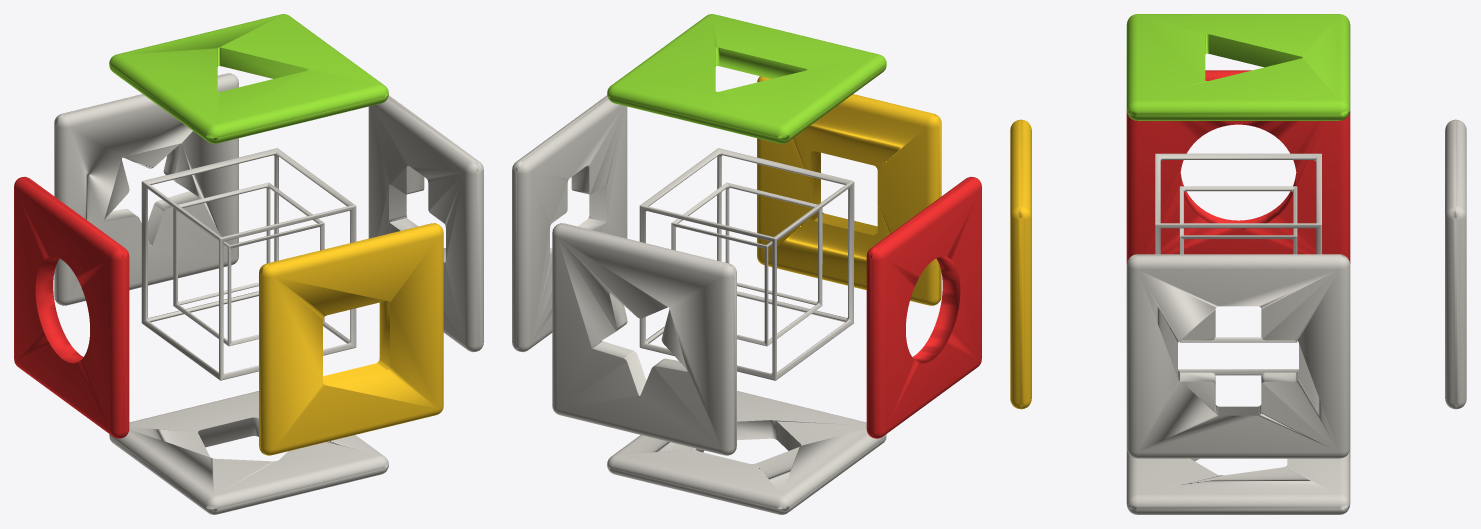
Rendered from newholeCube 1.fbx.
3 views of the same model, side by side, from view 1: azimuth 30°, elevation 25°; view 2: azimuth 150°, elevation 25°; view 3: azimuth 270°, elevation 25° (orthographic). The views are drawn at different scales.
Visible parts, largest first — view 1: Panel_Yellow_Square, Panel_Back_Star, Panel_Green_Triangle, Panel_Red_Circle, Panel_Grey_Pentagon, Panel_Right_Cross, Inner_Framework, Inner_Frame_Secondary; view 2: Panel_Back_Star, Panel_Yellow_Square, Panel_Green_Triangle, Panel_Red_Circle, Panel_Grey_Pentagon, Panel_Right_Cross, Inner_Framework, Inner_Frame_Secondary; view 3: Panel_Right_Cross, Panel_Green_Triangle, Panel_Red_Circle, Panel_Grey_Pentagon, Panel_Yellow_Square, Panel_Back_Star, Inner_Framework, Inner_Frame_Secondary.
Part boxes in pixels (box(x1,y1,x2,y2)): Panel_Yellow_Square: box(259, 223, 443, 455); Panel_Back_Star: box(54, 73, 238, 305); Panel_Green_Triangle: box(109, 14, 388, 143); Panel_Red_Circle: box(14, 176, 129, 438); Panel_Grey_Pentagon: box(109, 391, 388, 514); Panel_Right_Cross: box(368, 95, 483, 352); Inner_Framework: box(141, 148, 356, 380); Inner_Frame_Secondary: box(173, 182, 324, 346); Panel_Back_Star: box(552, 223, 736, 455); Panel_Yellow_Square: box(757, 76, 941, 305); Panel_Green_Triangle: box(607, 14, 886, 143); Panel_Red_Circle: box(866, 176, 981, 438); Panel_Grey_Pentagon: box(607, 391, 886, 514); Panel_Right_Cross: box(512, 95, 627, 352); Inner_Framework: box(639, 148, 854, 380); Inner_Frame_Secondary: box(671, 182, 822, 346); Panel_Right_Cross: box(1126, 254, 1350, 458); Panel_Green_Triangle: box(1126, 14, 1350, 120); Panel_Red_Circle: box(1126, 70, 1350, 263); Panel_Grey_Pentagon: box(1126, 448, 1350, 514); Panel_Yellow_Square: box(1010, 119, 1031, 409); Panel_Back_Star: box(1445, 119, 1466, 409); Inner_Framework: box(1155, 153, 1321, 375); Inner_Frame_Secondary: box(1179, 186, 1297, 342).
Bounding box in the file's own units: 378 × 378 × 378.
